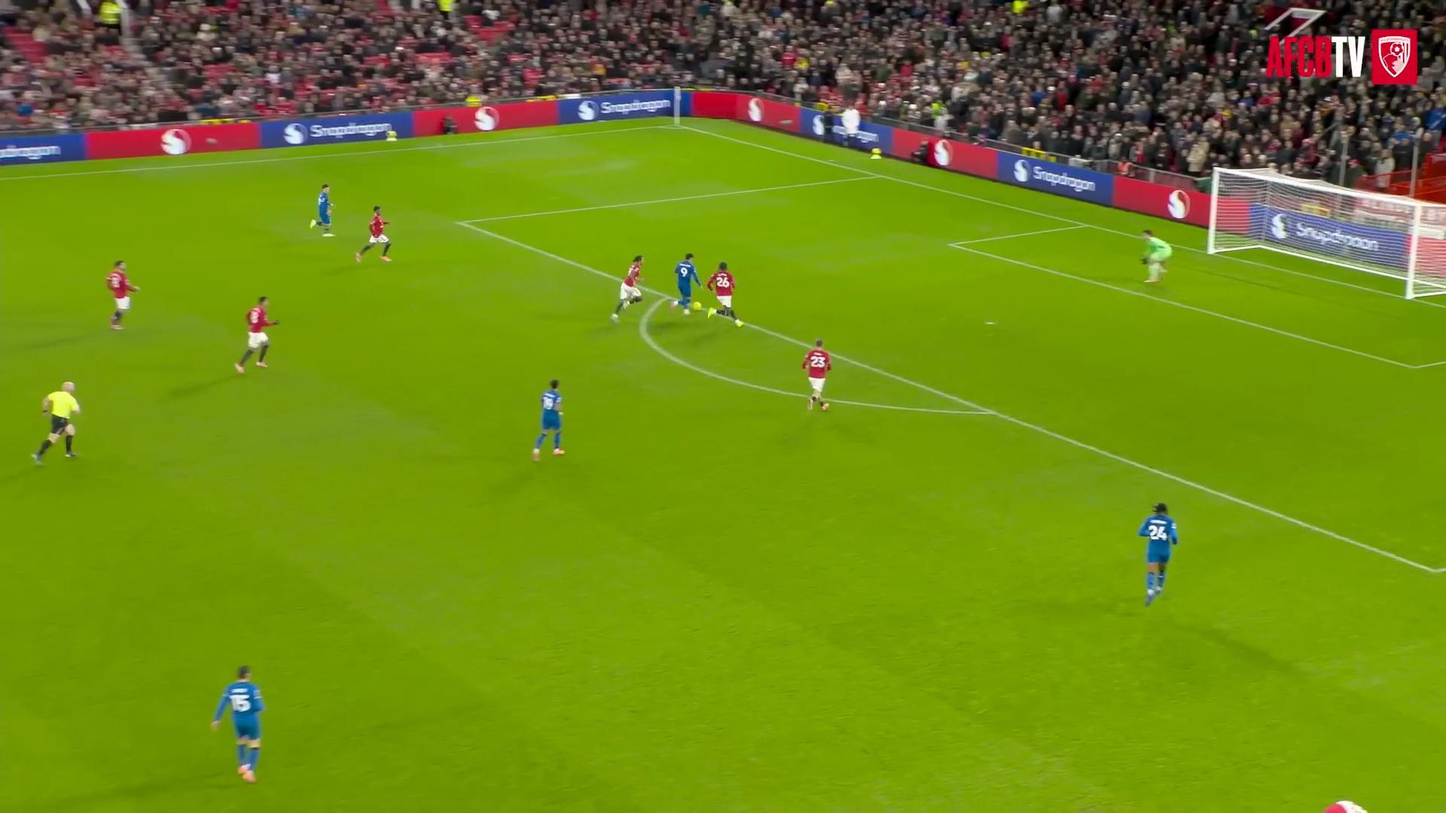football: (691, 301, 703, 310)
player: (212, 665, 264, 781), (1137, 503, 1178, 605), (235, 297, 279, 373), (532, 379, 564, 460), (706, 262, 743, 326), (106, 260, 139, 330), (612, 255, 643, 322), (802, 340, 831, 410), (670, 252, 700, 315), (355, 206, 389, 261), (1141, 230, 1172, 282), (309, 184, 333, 236)
referee: (32, 382, 79, 464)
